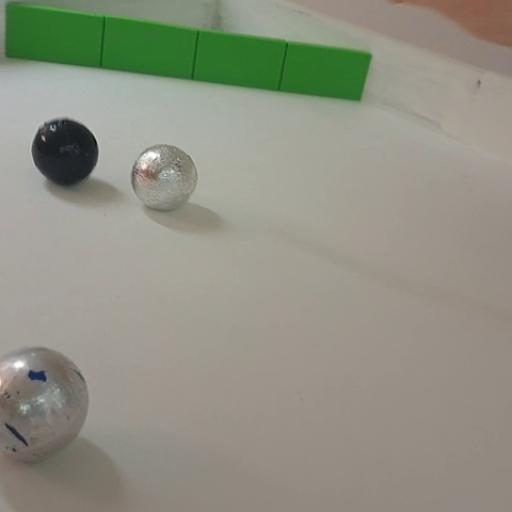alive: (130, 144, 198, 210)
dead: (0, 347, 90, 464), (30, 116, 101, 187)
